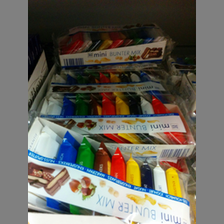chocolate: (28, 116, 196, 224), (34, 96, 197, 160), (58, 27, 167, 66), (39, 73, 175, 99)
